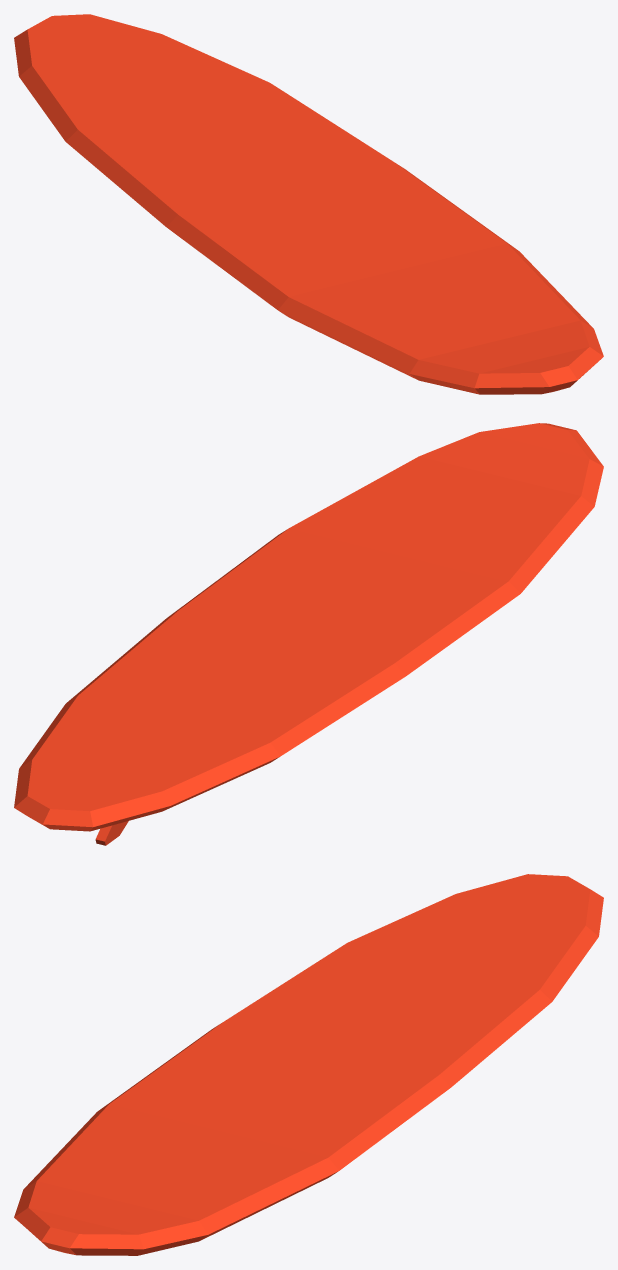
The model's file is SM_Surf_A_City.fbx.
3 views of the same model, one above another, from view 1: azimuth 30°, elevation 25°; view 2: azimuth 150°, elevation 25°; view 3: azimuth 330°, elevation 25° (orthographic).
Parts seen in each view (by area): view 1: SM_Surf_A_City; view 2: SM_Surf_A_City; view 3: SM_Surf_A_City.
Part boxes in pixels (<box>): SM_Surf_A_City: <box>14,14,603,394</box>; SM_Surf_A_City: <box>14,423,603,845</box>; SM_Surf_A_City: <box>14,874,603,1255</box>.
Size of the model in its own units: 0.7493 by 0.2581 by 2.79.
